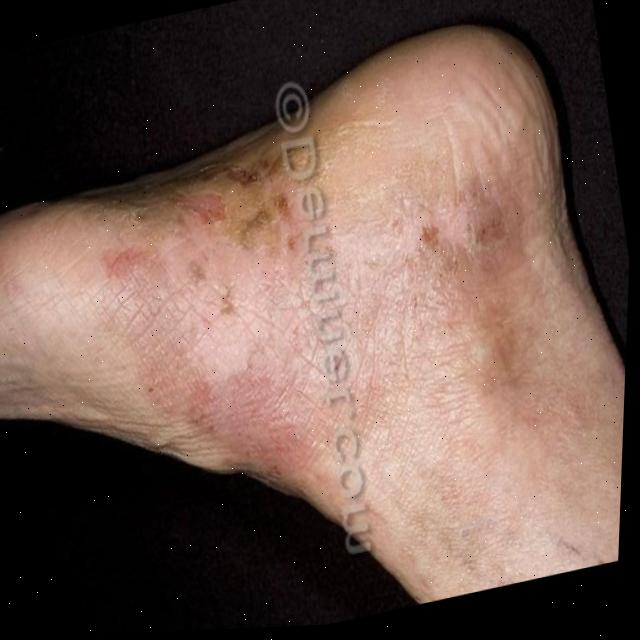Eczema: (90, 132, 330, 482)
